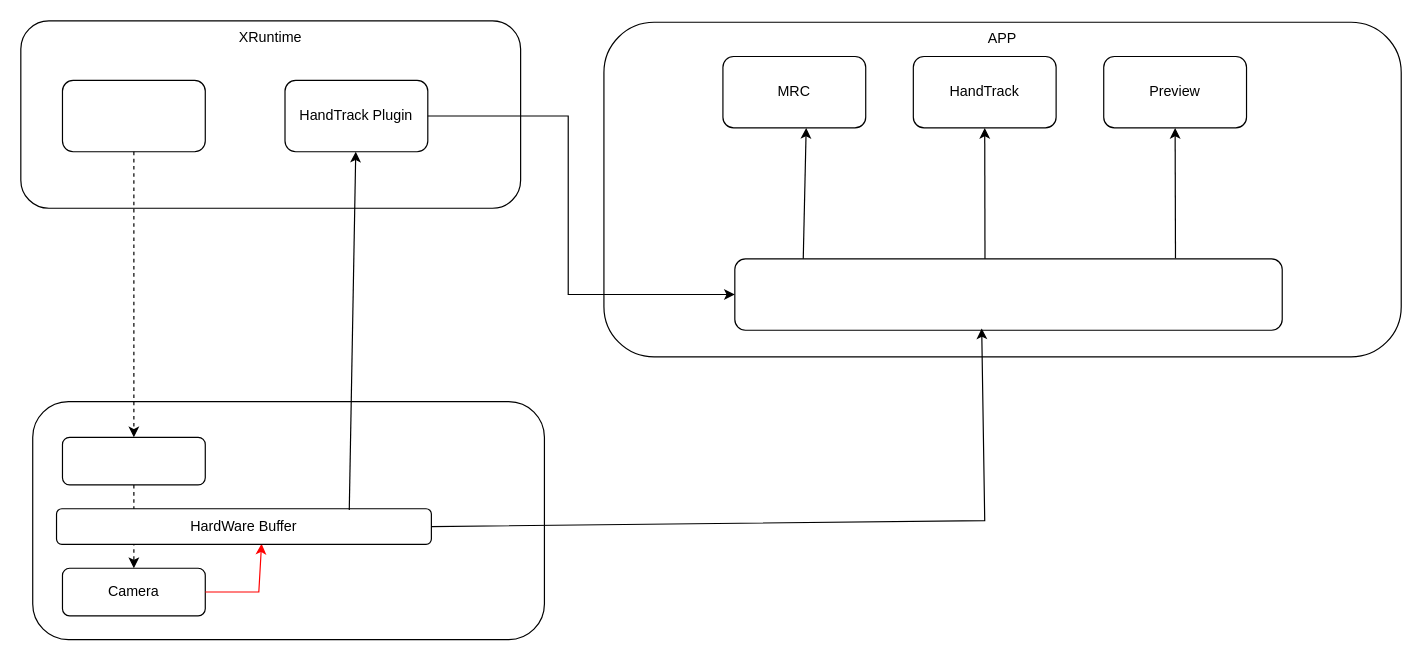
The diagram is 1422 pixels wide and 660 high, and some of its shapes have lost their labels. The shapes that lost their labels are listed below. From the top down, each one's box as (x1, y1, x2, y2) in pixels, then its label:
(61, 79, 205, 152): Camera Plugin
(734, 258, 1282, 330): XRuntime Client
(61, 436, 205, 485): CameraService
(32, 400, 544, 640): Android System
